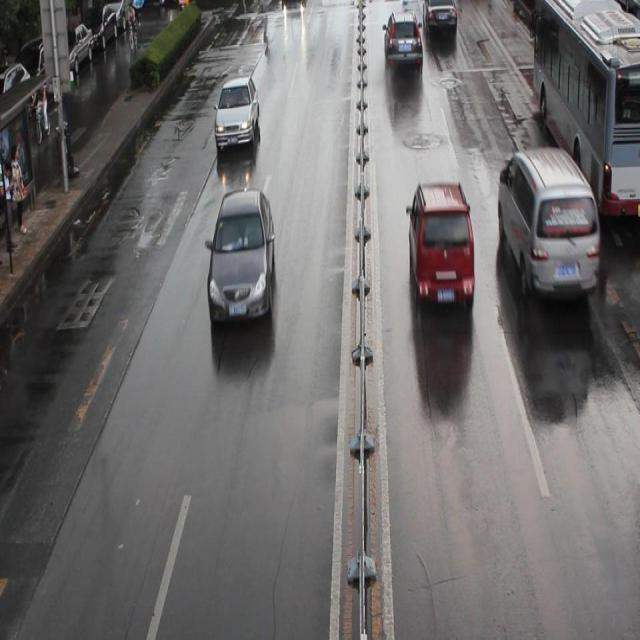car: (207, 189, 274, 321), (406, 180, 474, 308), (215, 78, 259, 150), (382, 12, 423, 67), (422, 1, 457, 33)
truck: (496, 146, 598, 298)
van: (531, 1, 640, 215)
